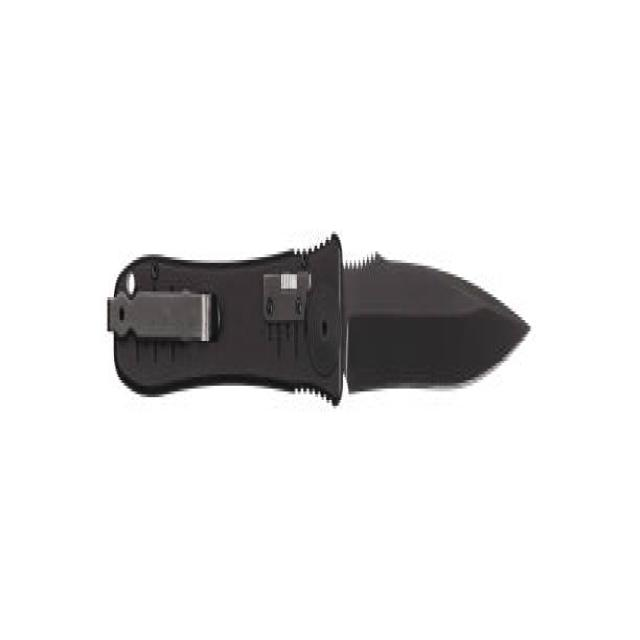knife: (105, 234, 541, 434)
